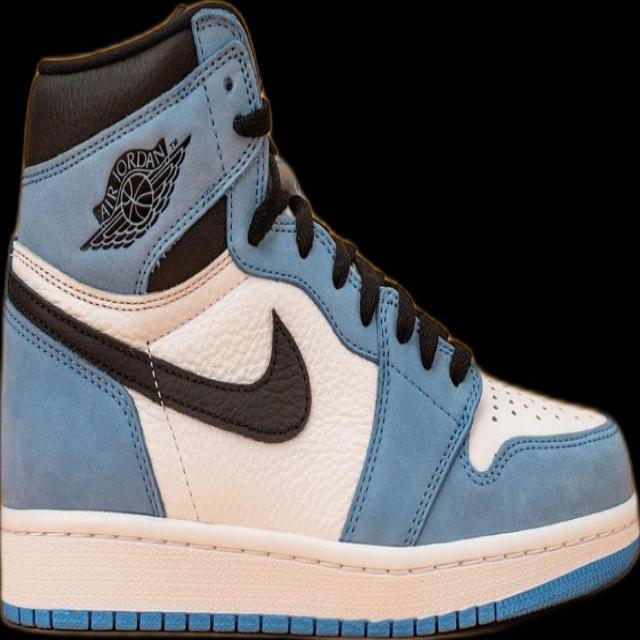J1_InsoleChar: (0, 0, 639, 639)
J1_ShoeLogo: (78, 131, 192, 252)
J1_StitchPattern: (277, 188, 600, 430), (5, 242, 313, 443), (246, 147, 474, 385), (1, 511, 639, 581), (0, 602, 499, 638), (137, 337, 205, 523), (482, 375, 601, 429)
